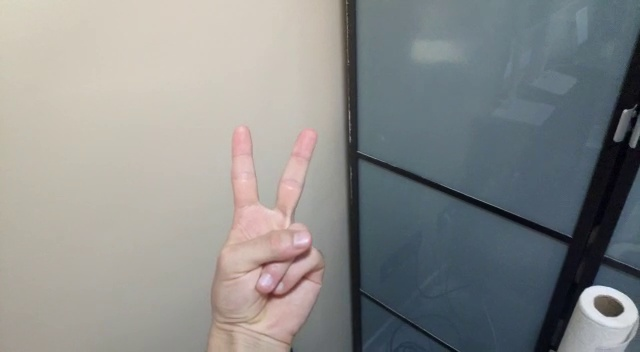Peace: (208, 115, 324, 345)
